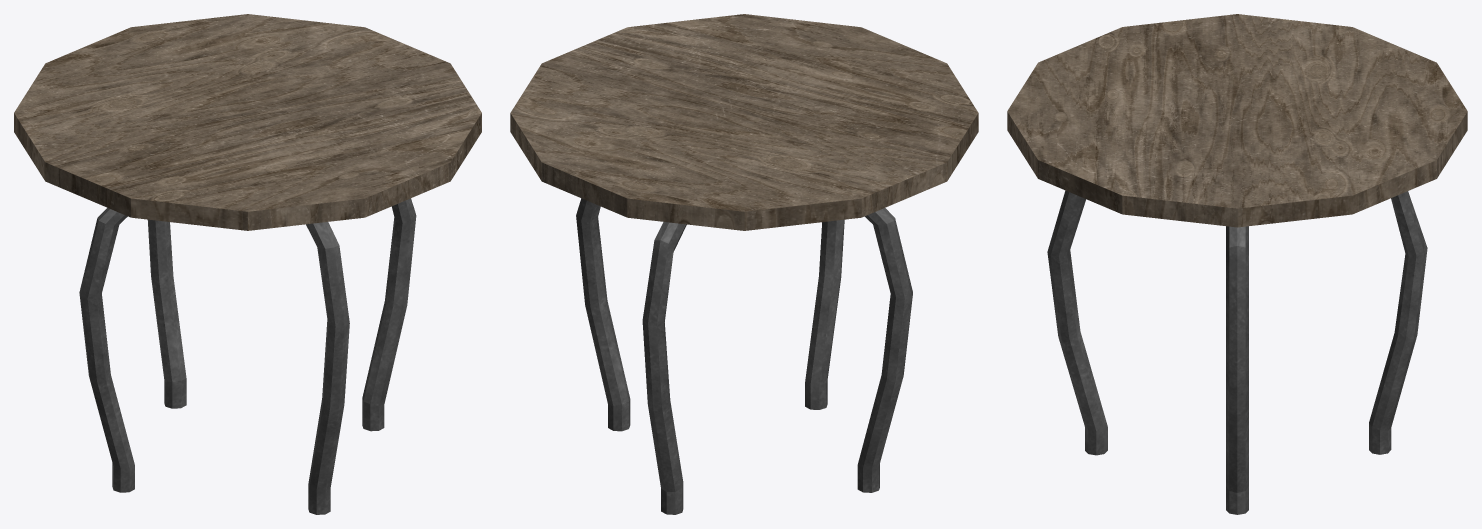
Rendered from chair.fbx.
3 renders of one model, left to right at view 1: azimuth 30°, elevation 25°; view 2: azimuth 150°, elevation 25°; view 3: azimuth 270°, elevation 25°, orthographic.
Parts seen in each view (by area): view 1: chair; view 2: chair; view 3: chair.
Boxes of the visible parts, x1=… form: chair: x1=14, y1=14, x2=481, y2=514; chair: x1=510, y1=14, x2=978, y2=514; chair: x1=1007, y1=14, x2=1467, y2=514.
Bounding box in the file's own units: 9.7 × 7.89 × 9.7.
1 material, 1 textured.
